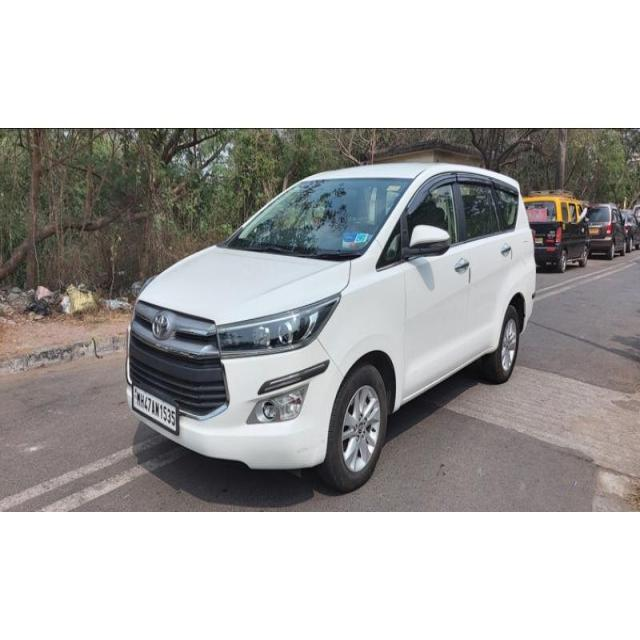light_vehicle: (125, 161, 538, 492)
